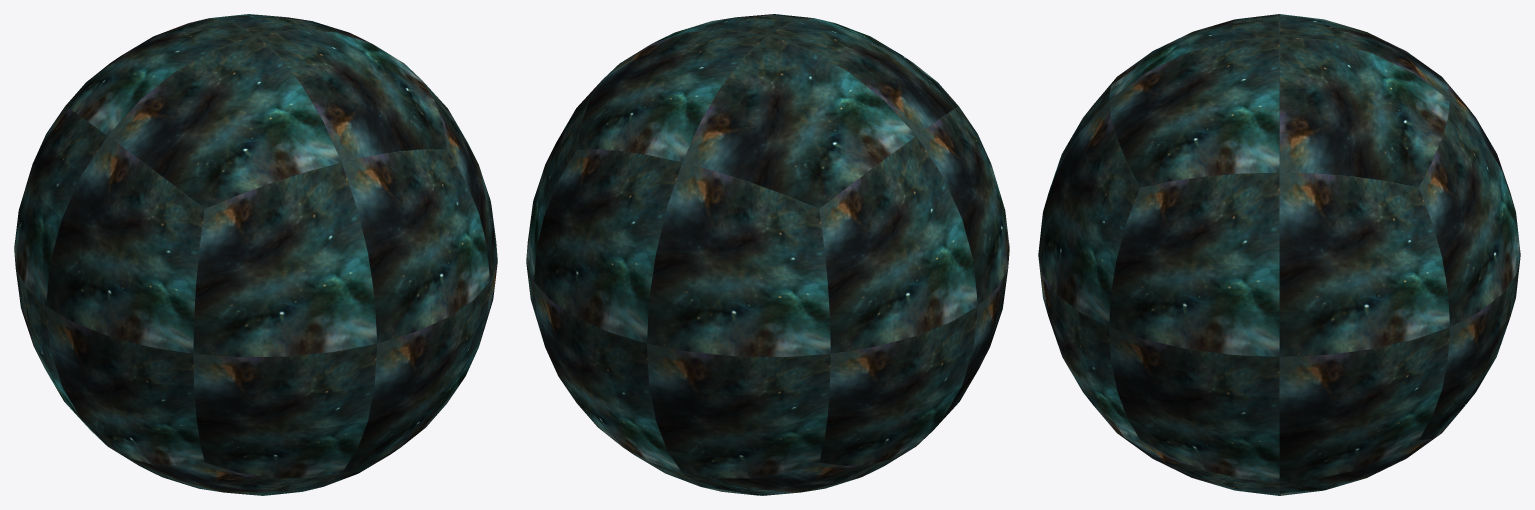
File: cielo2.obj
3 renders of one model, left to right at view 1: azimuth 30°, elevation 25°; view 2: azimuth 150°, elevation 25°; view 3: azimuth 270°, elevation 25°, orthographic.
Parts seen in each view (by area): view 1: object_2, object_3, object_6, object_5, object_1; view 2: object_4, object_3, object_6, object_5, object_1; view 3: object_1, object_6, object_2, object_4, object_5.
Boxes of the visible parts, x1,y1,x2,y2 form: object_2: (193,149,489,478); object_3: (14,107,204,465); object_6: (65,14,446,208); object_5: (110,448,399,495); object_1: (422,80,497,341); object_4: (534,149,830,478); object_3: (819,107,1009,465); object_6: (577,14,958,208); object_5: (623,447,912,495); object_1: (526,80,601,342); object_1: (1109,172,1449,481); object_6: (1109,14,1449,187); object_2: (1038,77,1139,439); object_4: (1419,77,1520,439); object_5: (1118,434,1440,495).
Bounding box in the file's own units: 2 × 2 × 2.
